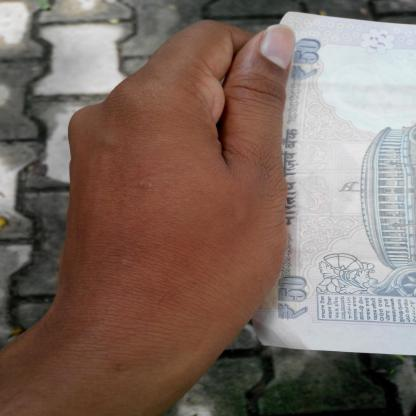Old50Back: (254, 11, 416, 356)
